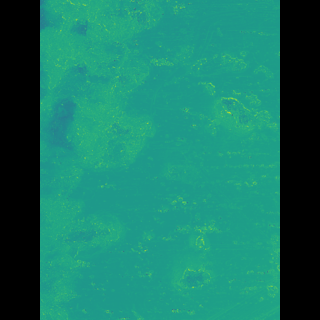Loch: (69, 0, 168, 320), (171, 42, 244, 146)
